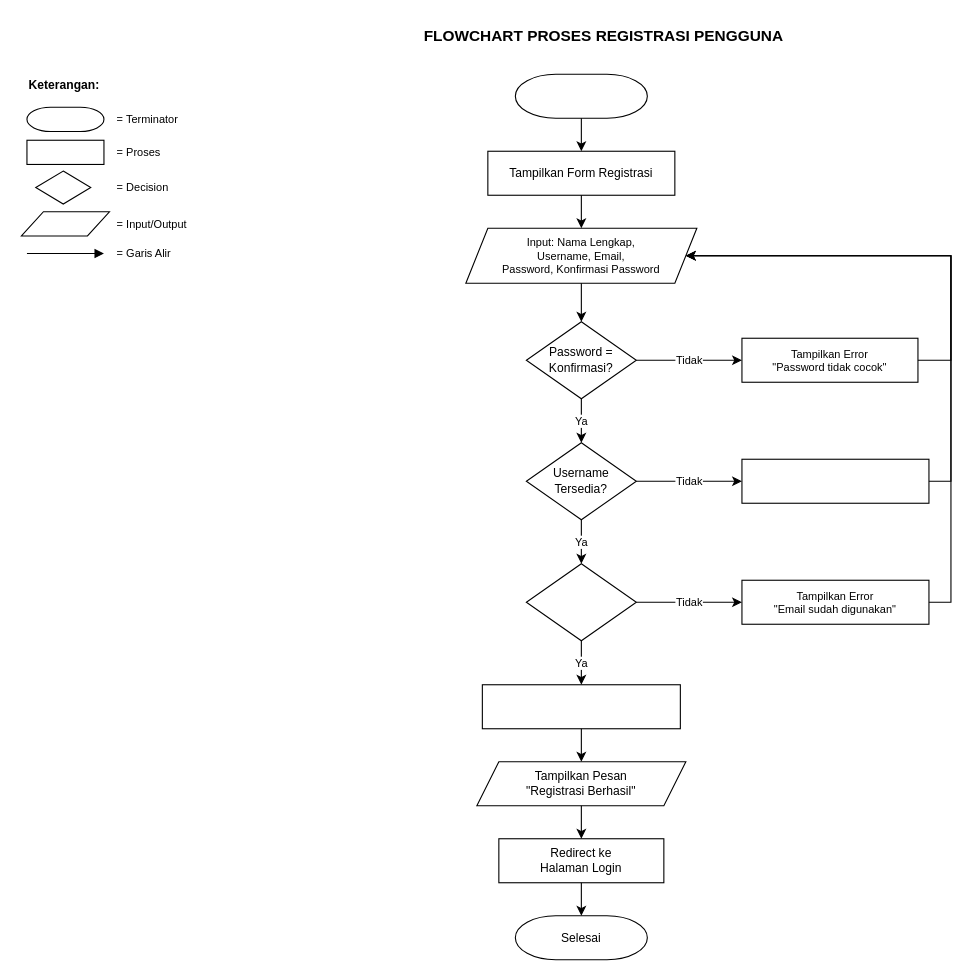
Some shapes in this 979 by 979 pixel diagram are drawn without their labels. The shapes that lost their labels are listed below. From the top down, each one's centre as x and y in pixels, then its label:
(x=580, y=95): Mulai
(x=835, y=480): Tampilkan Error "Username sudah digunakan"
(x=580, y=602): Email Tersedia?
(x=580, y=706): Simpan Data Pengguna ke Database (INSERT)
